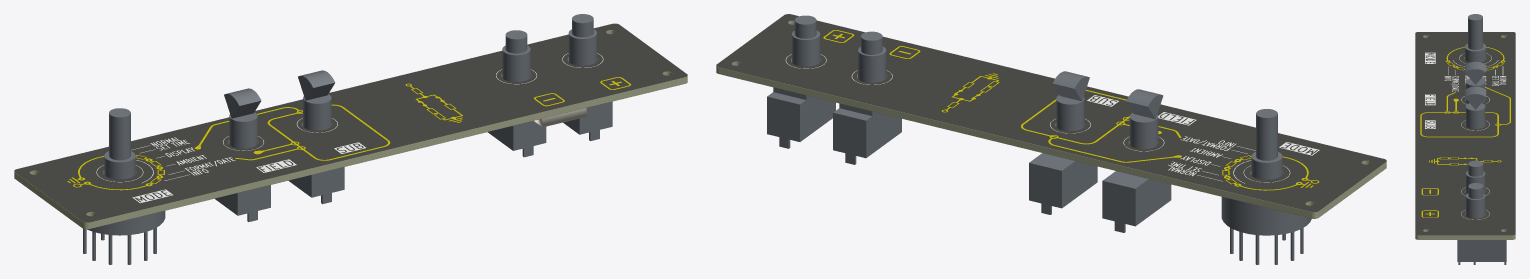
Rendered from TS06-FASCIA-rhythm-populated.glb.
3 views of the same model, side by side, from view 1: azimuth 30°, elevation 25°; view 2: azimuth 150°, elevation 25°; view 3: azimuth 270°, elevation 25° (orthographic). The views are drawn at different scales.
Visible parts, largest first — view 1: =>[0:1:1:17], =>[0:1:1:15], =>[0:1:1:9] (×2), =>[0:1:1:11] (×2), =>[0:1:1:7], =>[0:1:1:12], =>[0:1:1:13], =>[0:1:1:3]; view 2: =>[0:1:1:17], =>[0:1:1:15], =>[0:1:1:9] (×2), =>[0:1:1:11] (×2), =>[0:1:1:7], =>[0:1:1:12], =>[0:1:1:13]; view 3: =>[0:1:1:15], =>[0:1:1:17], =>[0:1:1:11] (×2), =>[0:1:1:9] (×2), =>[0:1:1:12], =>[0:1:1:7], =>[0:1:1:13].
Part boxes in pixels (bbox=[...]): =>[0:1:1:17]: bbox=[14, 24, 687, 229]; =>[0:1:1:15]: bbox=[14, 23, 687, 222]; =>[0:1:1:9] (×2): bbox=[215, 70, 344, 221]; =>[0:1:1:11] (×2): bbox=[487, 14, 612, 157]; =>[0:1:1:7]: bbox=[83, 108, 165, 264]; =>[0:1:1:12]: bbox=[67, 77, 630, 190]; =>[0:1:1:13]: bbox=[96, 53, 603, 203]; =>[0:1:1:3]: bbox=[534, 108, 586, 127]; =>[0:1:1:17]: bbox=[716, 15, 1386, 218]; =>[0:1:1:15]: bbox=[716, 14, 1386, 212]; =>[0:1:1:9] (×2): bbox=[1029, 71, 1171, 232]; =>[0:1:1:11] (×2): bbox=[767, 15, 901, 164]; =>[0:1:1:7]: bbox=[1221, 109, 1311, 264]; =>[0:1:1:12]: bbox=[823, 30, 1319, 190]; =>[0:1:1:13]: bbox=[785, 54, 1319, 183]; =>[0:1:1:15]: bbox=[1415, 32, 1515, 235]; =>[0:1:1:17]: bbox=[1415, 32, 1515, 239]; =>[0:1:1:11] (×2): bbox=[1457, 160, 1506, 264]; =>[0:1:1:9] (×2): bbox=[1465, 61, 1486, 129]; =>[0:1:1:12]: bbox=[1420, 43, 1510, 217]; =>[0:1:1:7]: bbox=[1464, 14, 1486, 62]; =>[0:1:1:13]: bbox=[1425, 52, 1506, 219].
Size of the model in its own units: 0.1914 by 0.0413 by 0.04.
